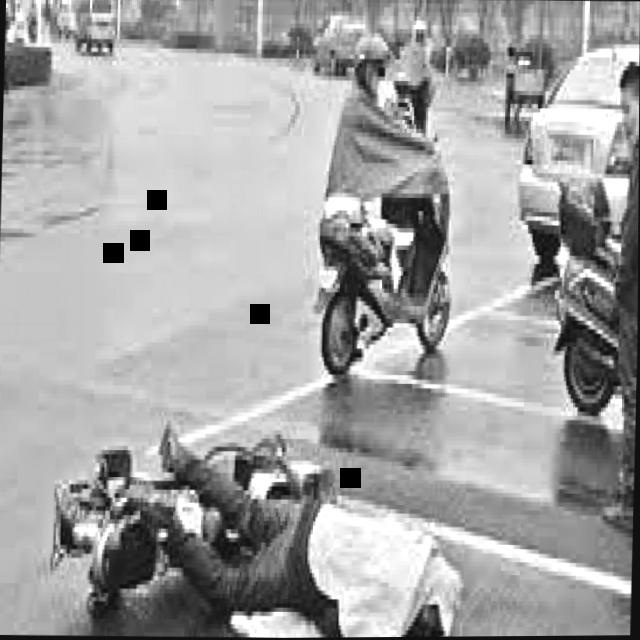Fall-Detected: (142, 392, 478, 639)
